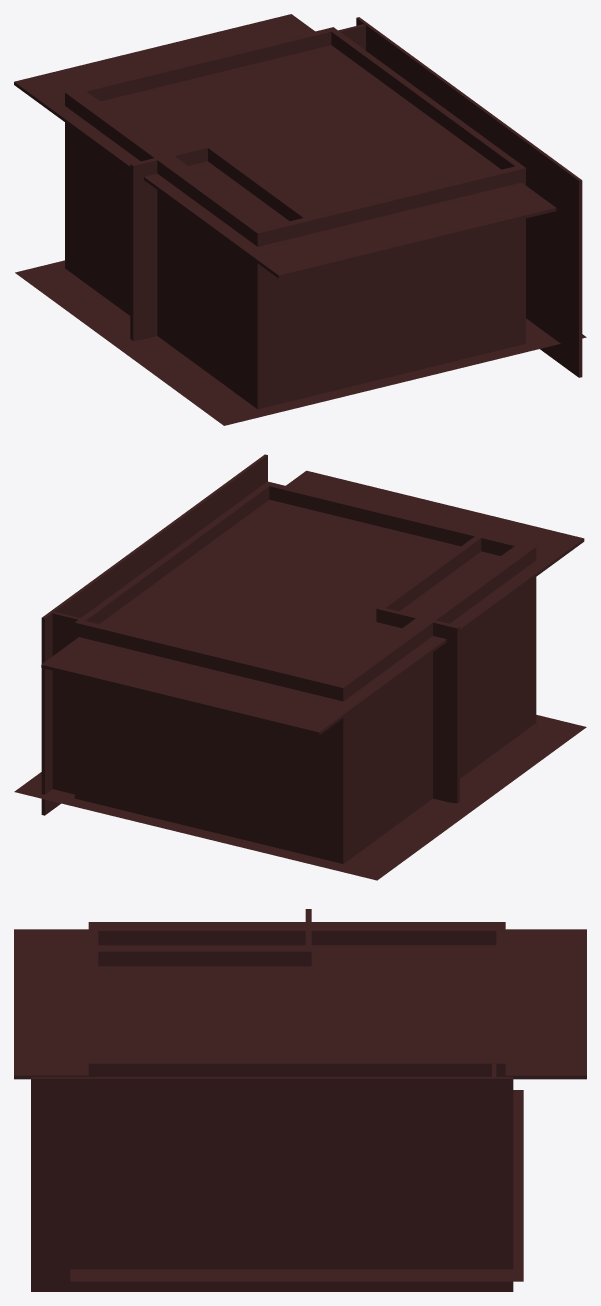
Rendered from Bar.obj.
3 renders of one model, top to bottom at view 1: azimuth 30°, elevation 25°; view 2: azimuth 150°, elevation 25°; view 3: azimuth 270°, elevation 25°, orthographic. The views are drawn at different scales.
Parts seen in each view (by area): view 1: 平面; view 2: 平面; view 3: 平面.
Part boxes in pixels (x1=…): 平面: x1=14, y1=14, x2=586, y2=425; 平面: x1=14, y1=454, x2=586, y2=880; 平面: x1=14, y1=909, x2=586, y2=1291.
Size of the model in its own units: 235 by 122 by 298.
1 material, 1 textured.
